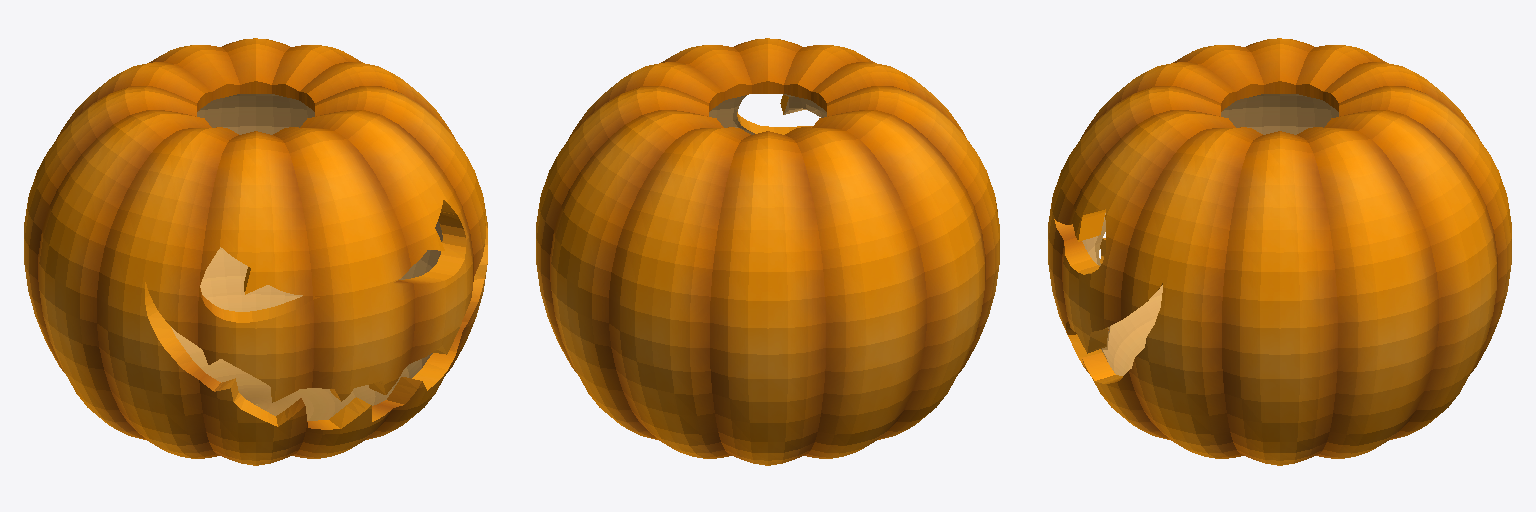
3 views of the same model, side by side, from view 1: azimuth 30°, elevation 25°; view 2: azimuth 150°, elevation 25°; view 3: azimuth 270°, elevation 25° (orthographic).
Visible parts, largest first — view 1: pumpkin_001; view 2: pumpkin_001; view 3: pumpkin_001.
Boxes of the visible parts, x1,y1,x2,y2 form: pumpkin_001: [24, 38, 487, 465]; pumpkin_001: [536, 38, 999, 465]; pumpkin_001: [1048, 38, 1511, 465].
Size of the model in its own units: 6.3 by 4.93 by 6.3.
1 materials, 1 textured.